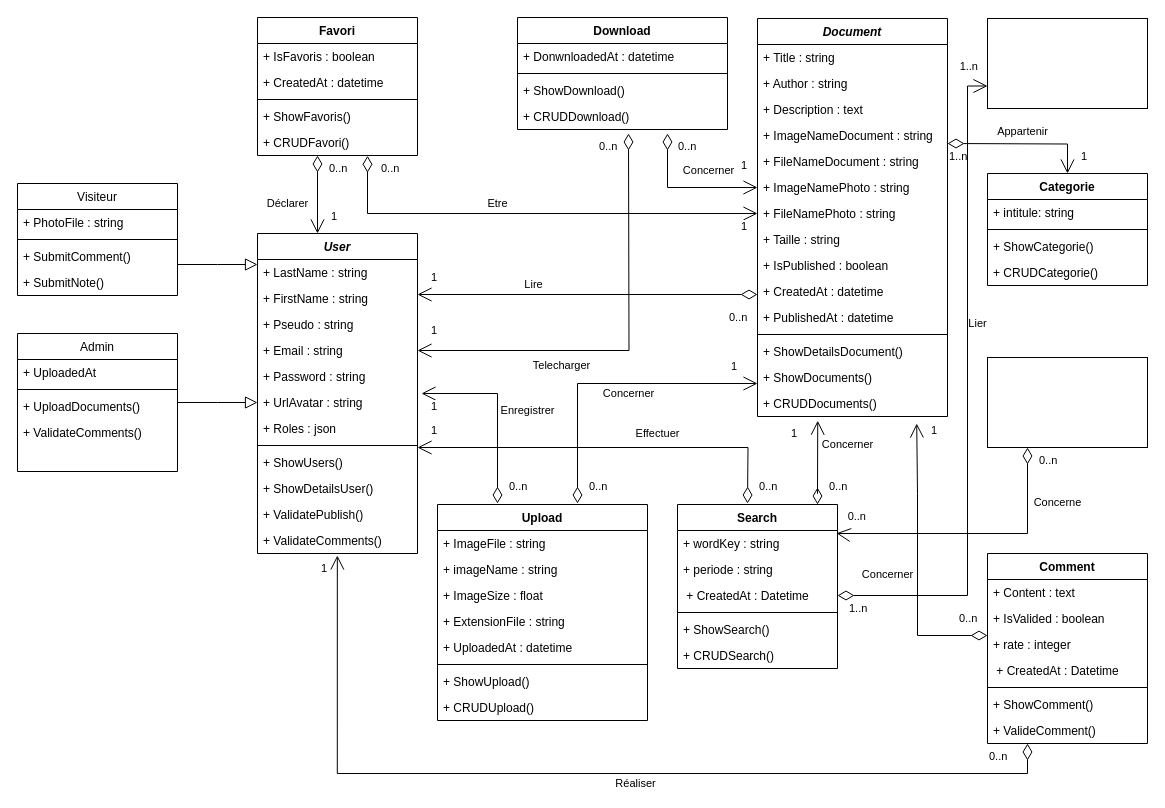
Image size: 1165x808. Some labels were removed from this diagram. Each missing label, with the centre of its shape:
PeriodSearch + Period : string + ShowPeriodeSearch(): (x=1067, y=63)
WordSearch + WordSearchKey : string + ShowWordSreach(): (x=1067, y=402)
